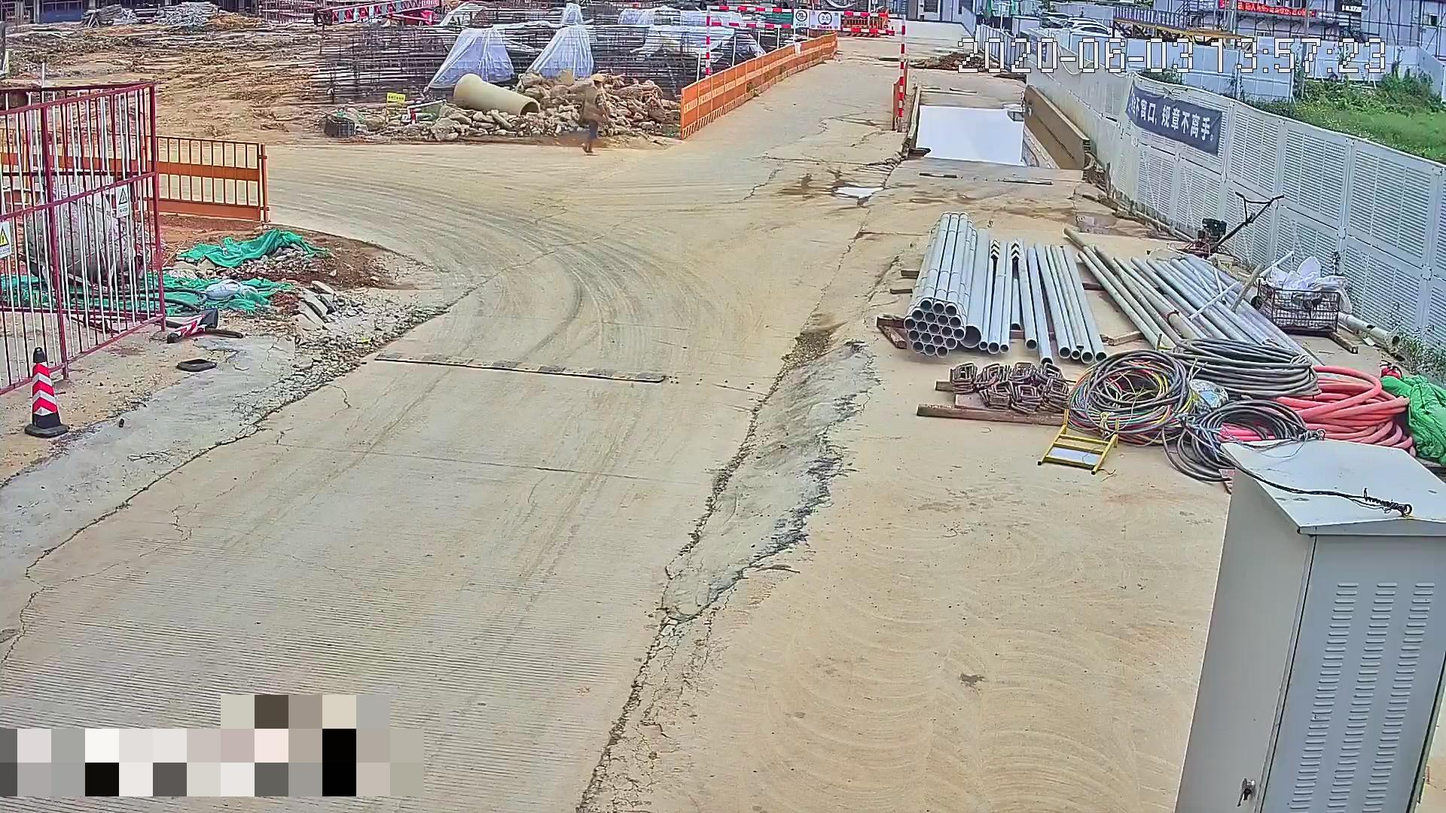hat: (593, 73, 605, 89)
person: (579, 72, 610, 157)
